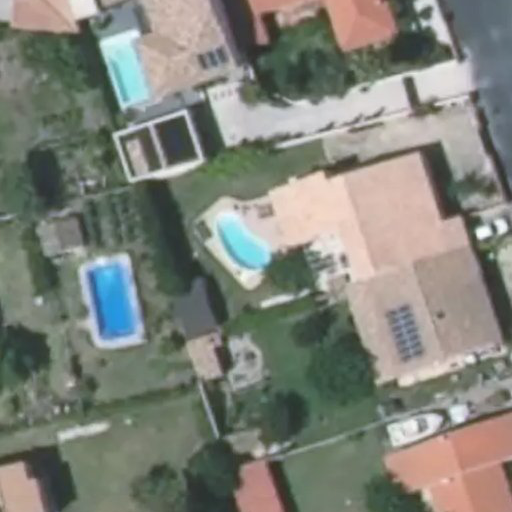pool: (231, 227, 282, 254)
